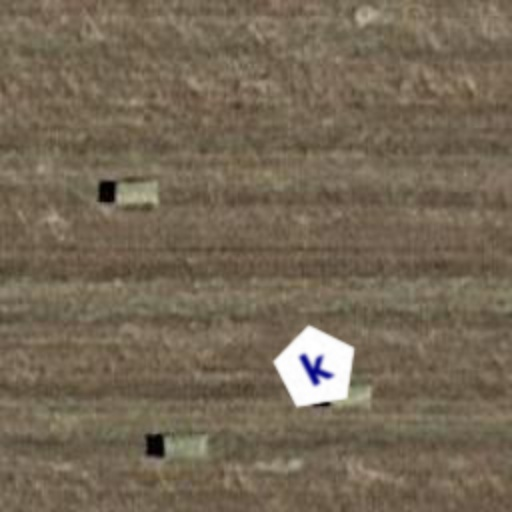pentagon: (256, 308, 376, 428)
